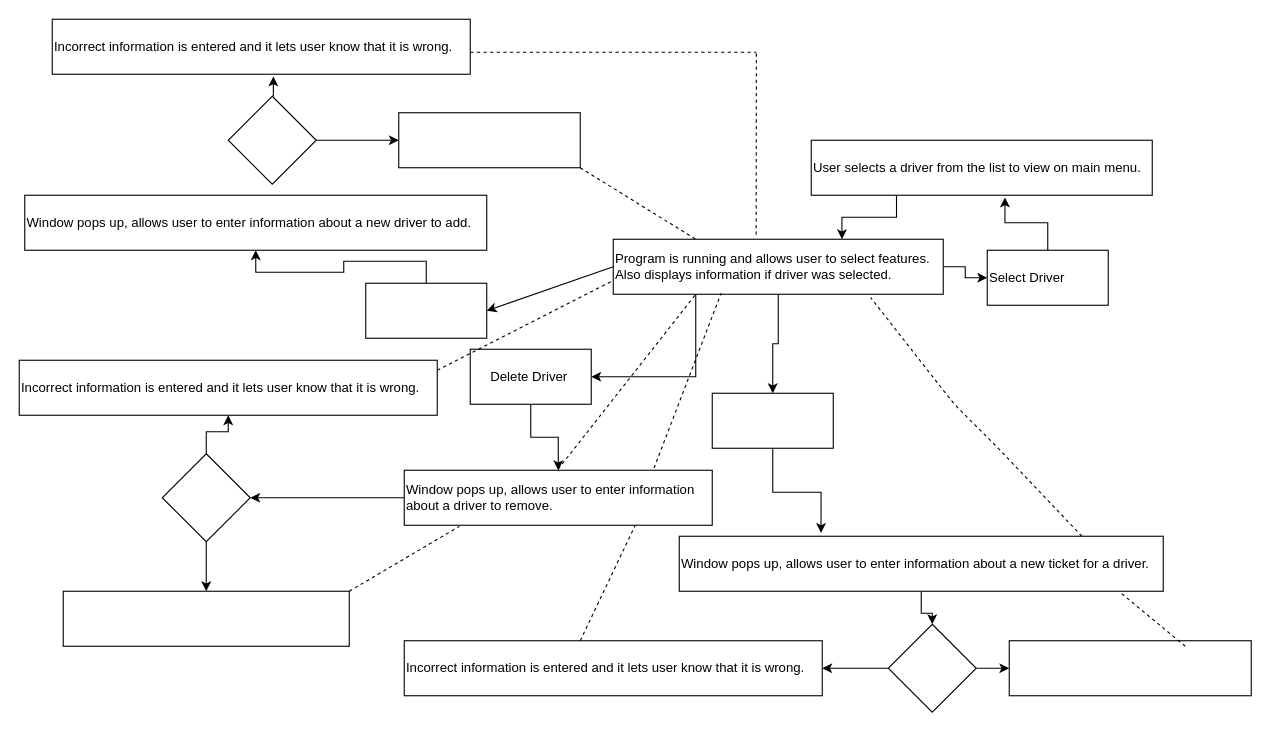
This 1271x732 diagram has some shape labels left out. Here are the shapes that lost their labels. From the top down, the centre of each, then its label:
(x=489, y=140): New Driver is added to list. Returns to main menu.
(x=426, y=310): New Driver
(x=772, y=420): Add Ticket
(x=205, y=618): Driver is deleted and goes back to main menu.
(x=1129, y=668): New Ticket is added for chosen driver. Returns to main menu.
